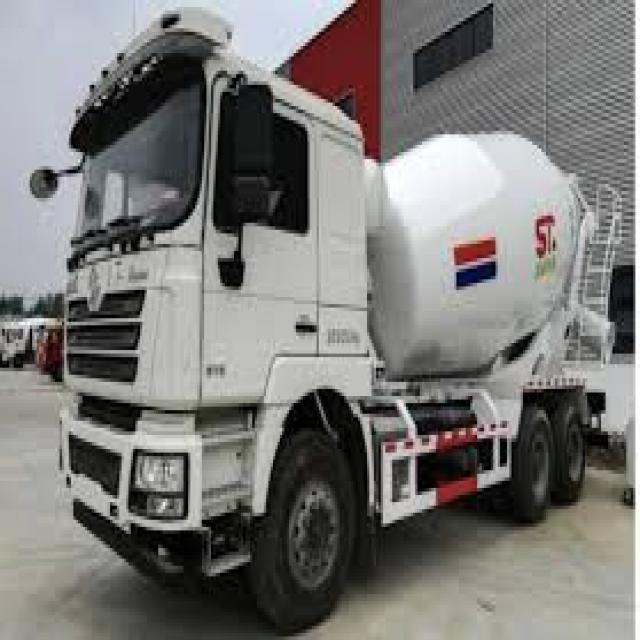Mixer Truck: (29, 3, 624, 629)
